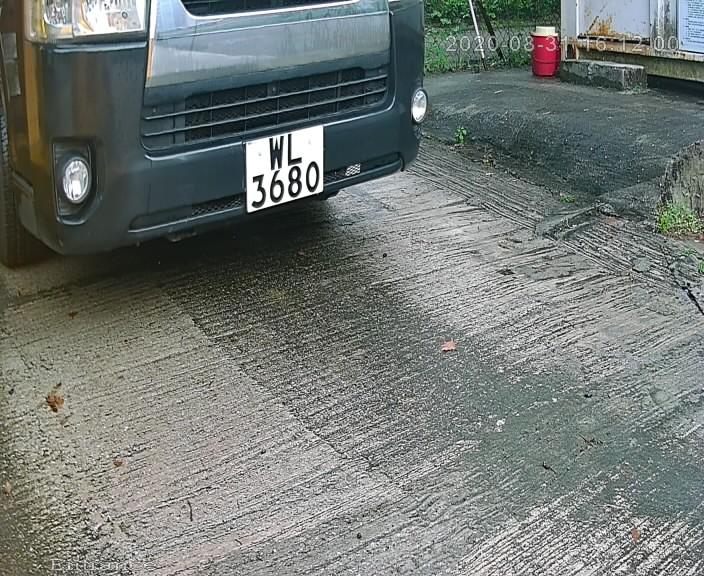Car: (29, 3, 469, 294)
License Plate: (236, 119, 331, 219)
